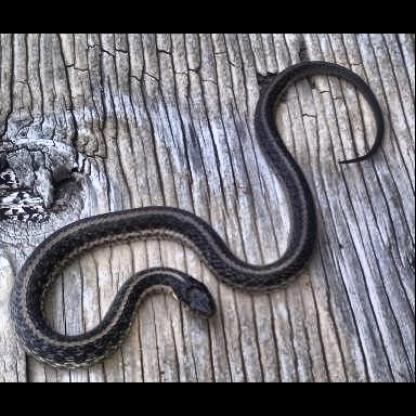Snake: (9, 55, 383, 372)
